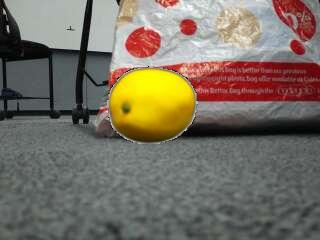lemon: (110, 69, 195, 141)
